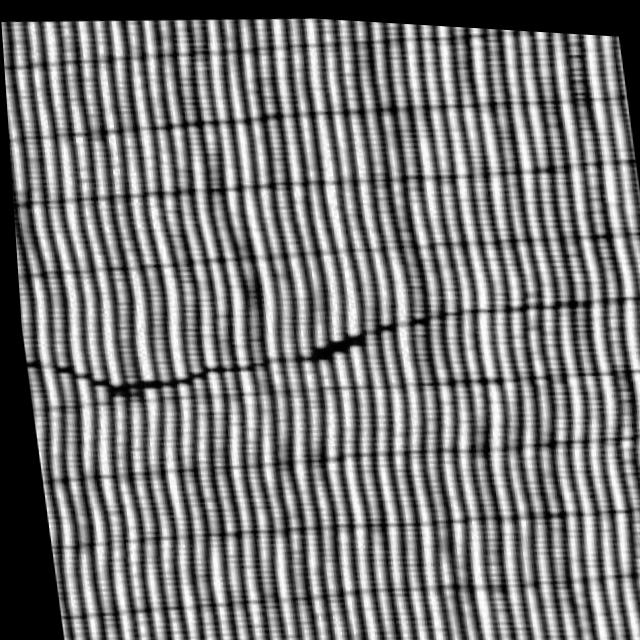Stitch: (13, 247, 491, 449)
